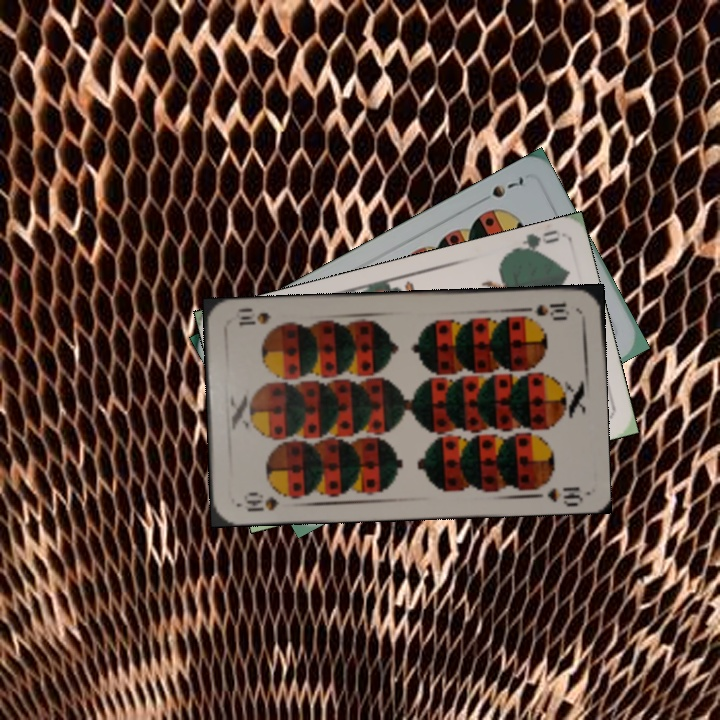GO: (504, 225, 562, 257)
S10: (518, 299, 572, 320), (242, 490, 281, 514)
S7: (474, 172, 529, 206)
